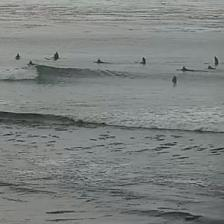surfer: (177, 66, 195, 71), (94, 58, 108, 64), (53, 52, 59, 60), (214, 56, 219, 65), (140, 57, 146, 64), (27, 61, 35, 66), (15, 53, 20, 60), (207, 66, 215, 70), (172, 76, 176, 83)
